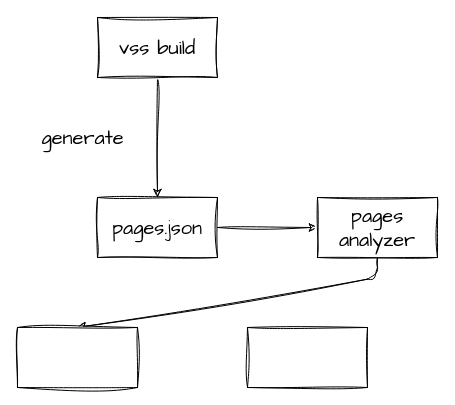
Some shapes in this 455 by 405 pixel diagram are drawn without their labels. Each missing label, with the centre of its shape:
post list page gen: the point at 77,357
tags list page gen: the point at 307,357
